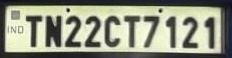character: (122, 15, 141, 48), (24, 14, 42, 48), (44, 14, 62, 47), (142, 15, 160, 48), (103, 15, 121, 47), (64, 15, 81, 48), (181, 16, 198, 49), (84, 15, 100, 48), (202, 16, 215, 50), (164, 15, 176, 48)
